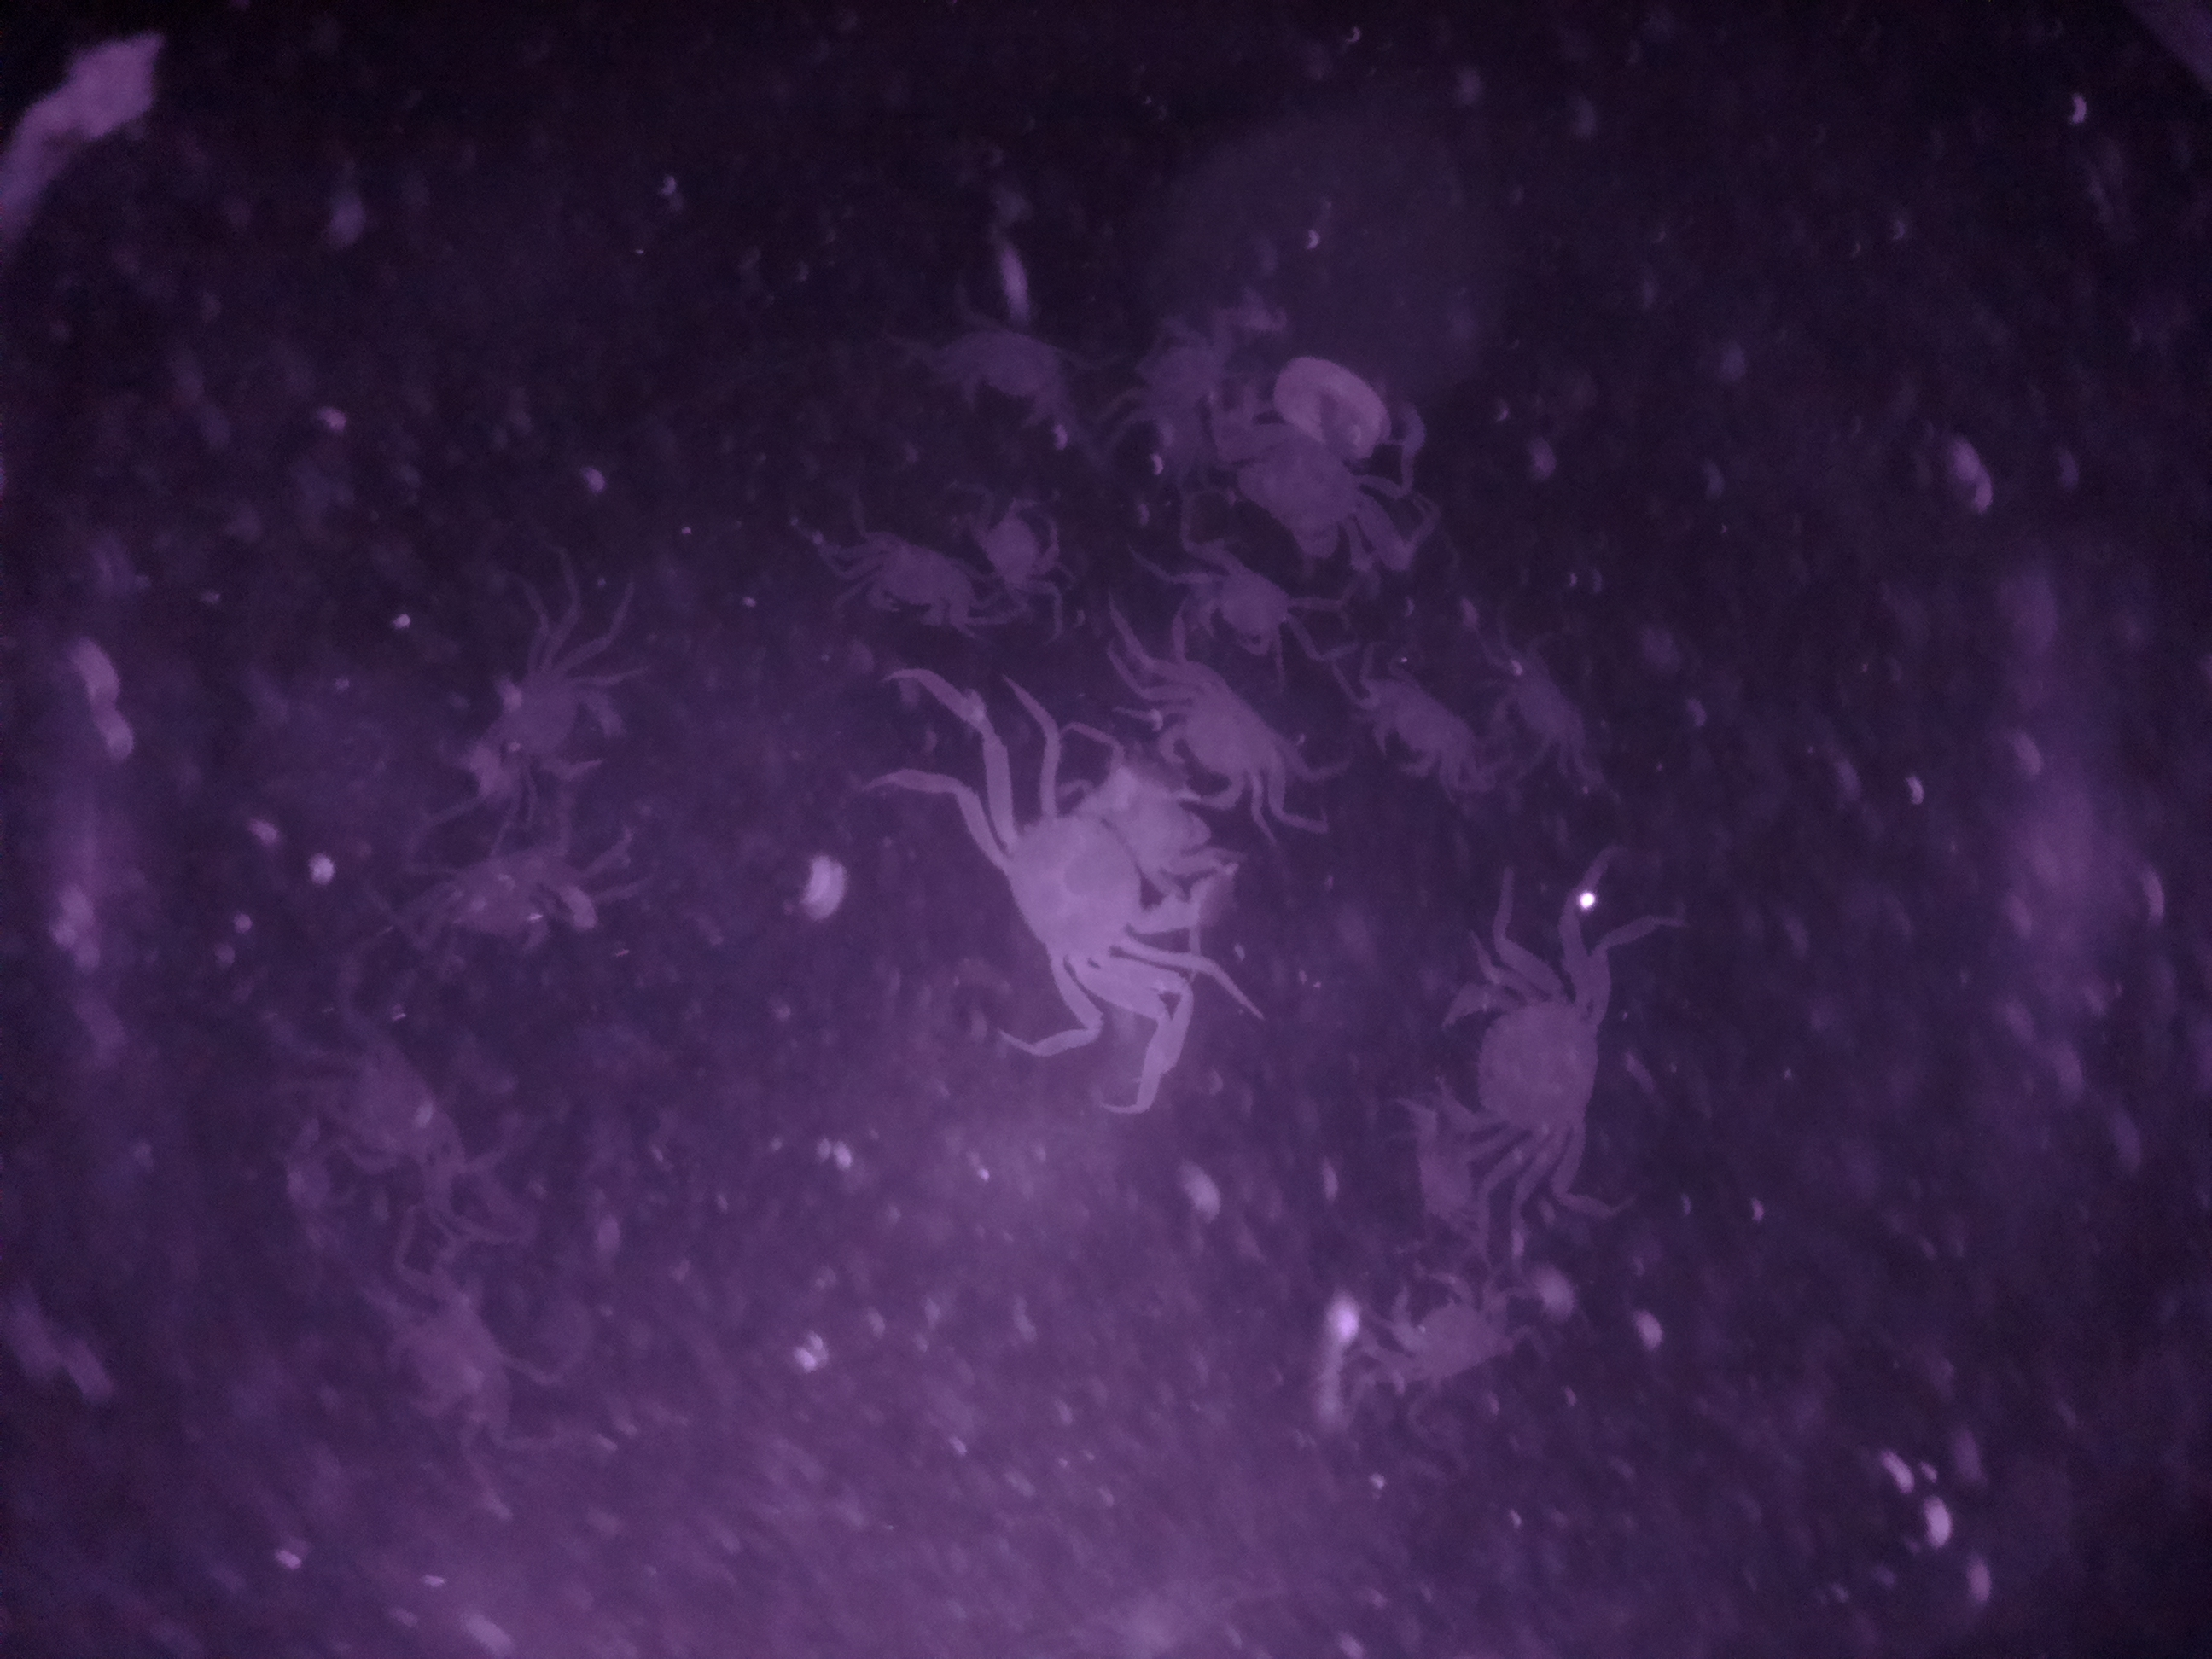Crab: (975, 760, 1224, 1000), (1428, 950, 1651, 1188), (1136, 643, 1306, 829), (469, 636, 643, 800), (1367, 1243, 1534, 1401), (841, 523, 1005, 645), (1360, 650, 1487, 798)
